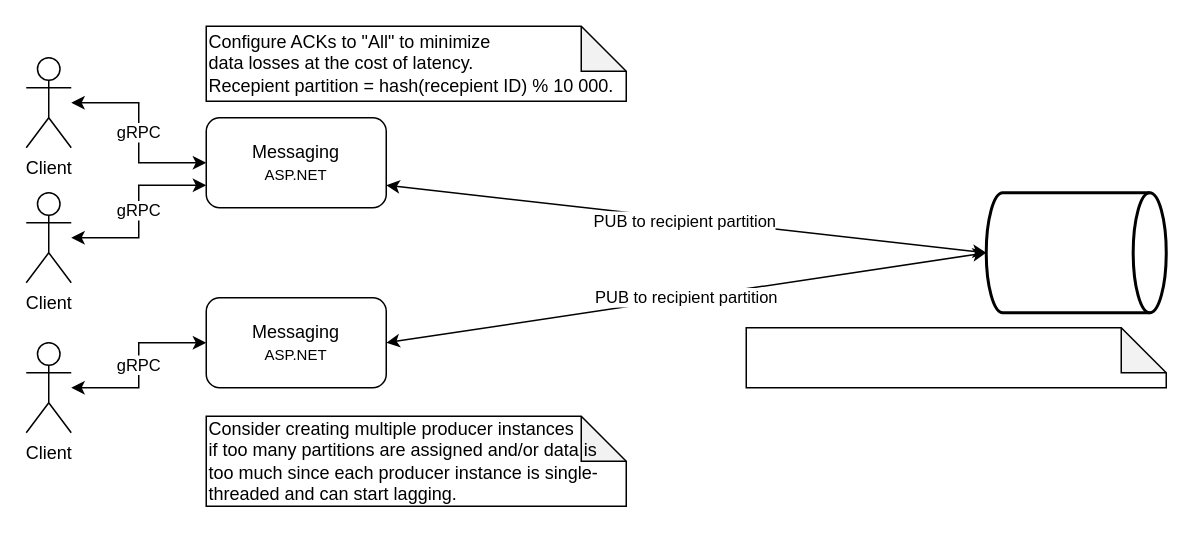
The diagram is 1194 pixels wide and 533 high, and some of its shapes have lost their labels. The box of each missing label's shape, as (x1, y1, x2, y2) in pixels:
PUB/SUB Kafka cluster: (984, 190, 1167, 314)
Set "messages" topic replication factor to 4 or 8 to minimize data losses.: (745, 326, 1166, 388)
